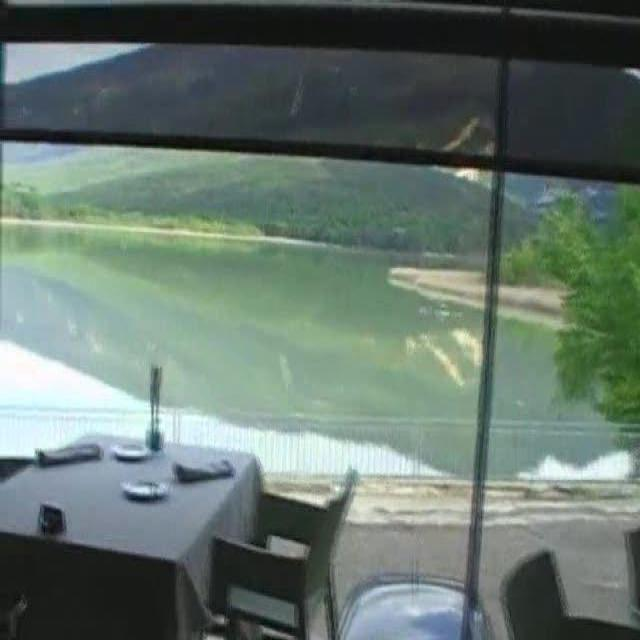other: (1, 337, 77, 399)
